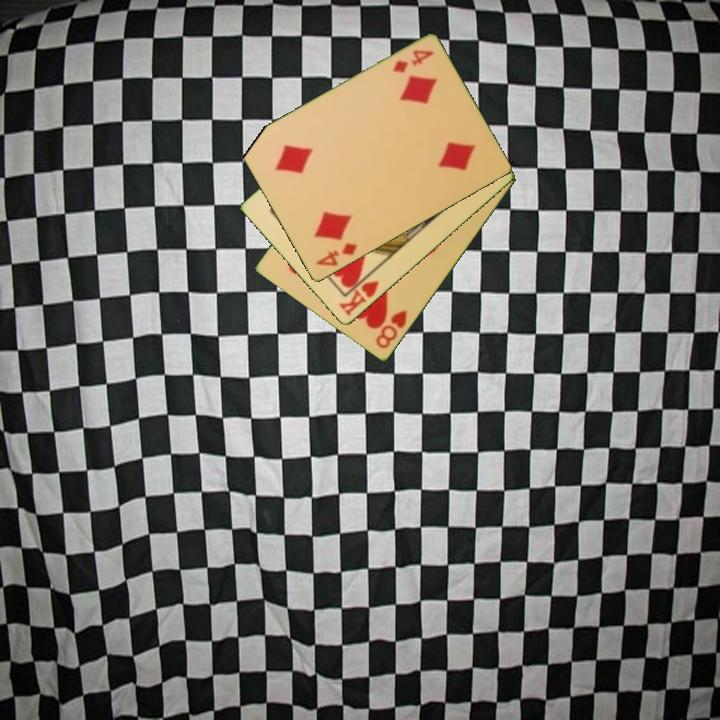4d: (312, 239, 361, 269), (389, 46, 437, 76)
8h: (372, 306, 410, 352)
Kh: (335, 268, 382, 319)
